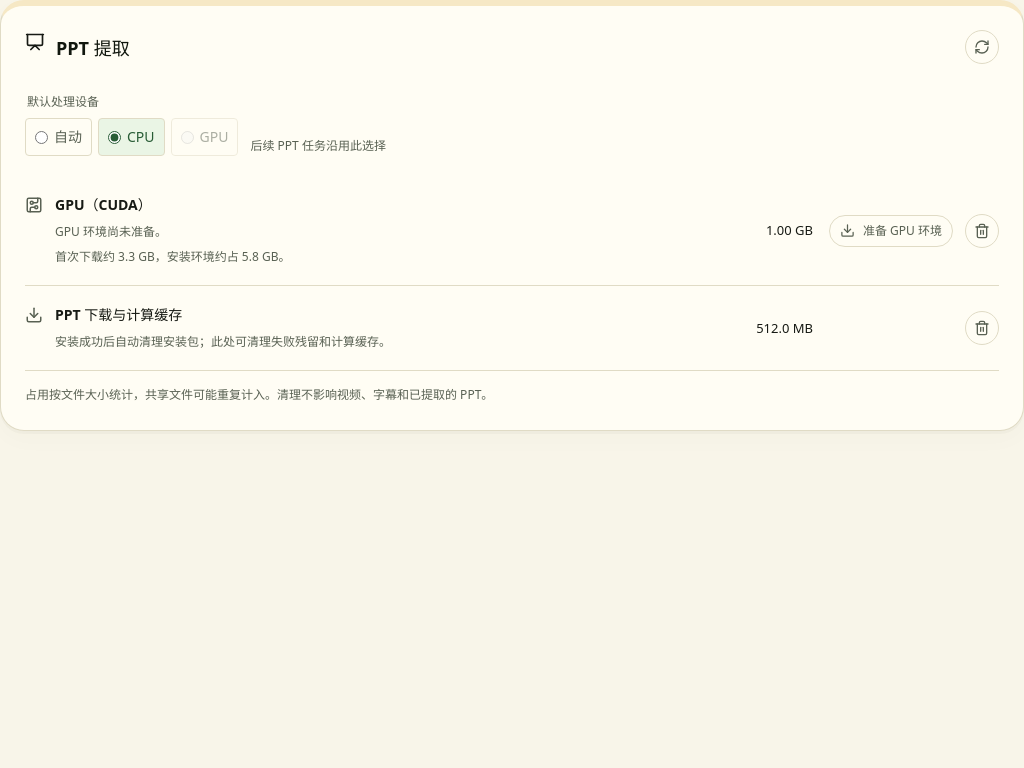
Test case: cleans only the requested all scope with real file counters
Click the button named "清理 PPT GPU 环境及缓存" at [982, 231], box [965,214,999,248]
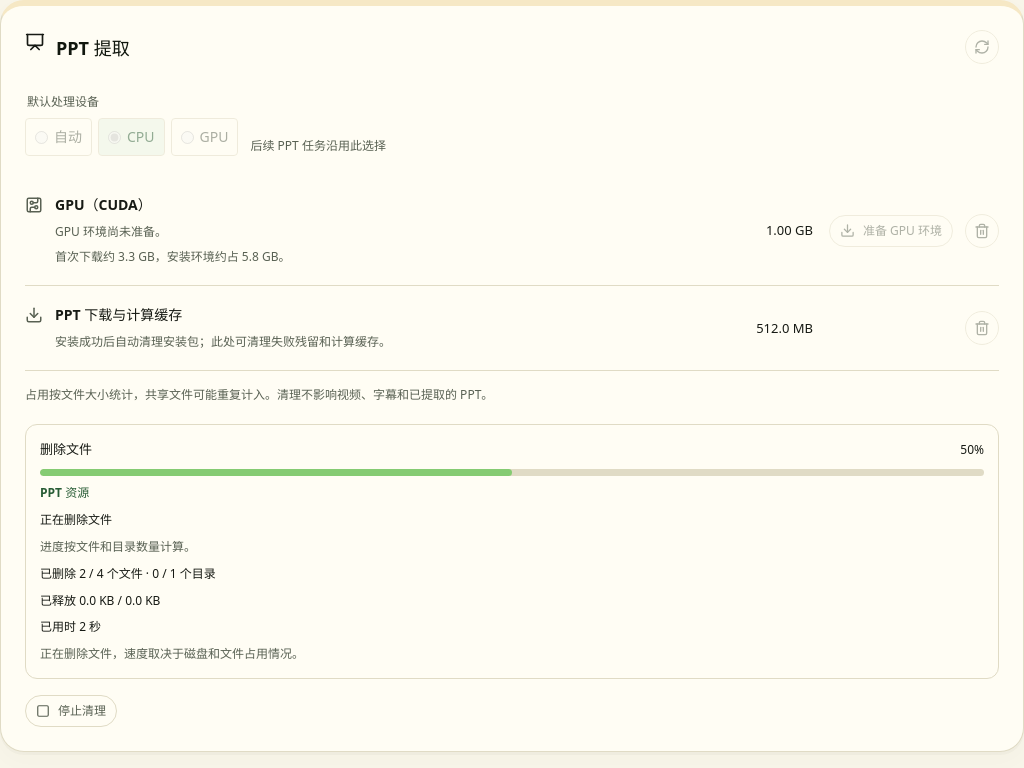
Expected: the element named "PPT 资源清理进度" is shown, [25,424,999,679]
Expected: the text "2 / 4 个文件" is shown, [40,565,216,582]
Expected: the button "停止清理" is enabled, [25,695,117,727]
